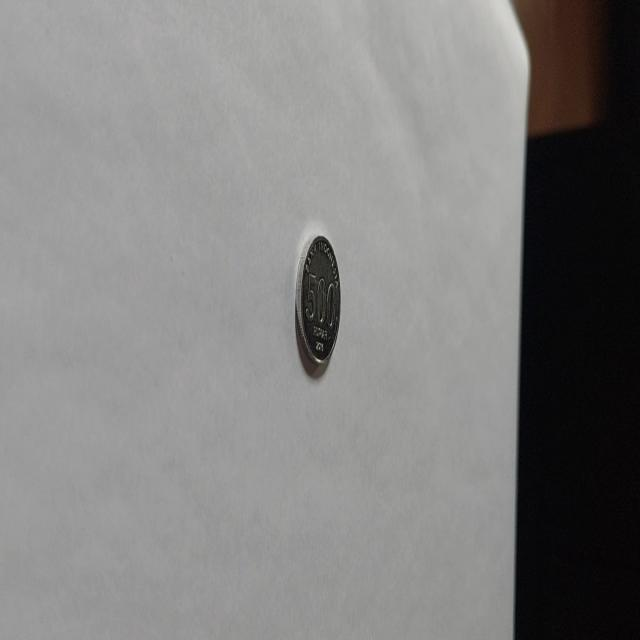lima ratus rupiah: (294, 233, 342, 376)
